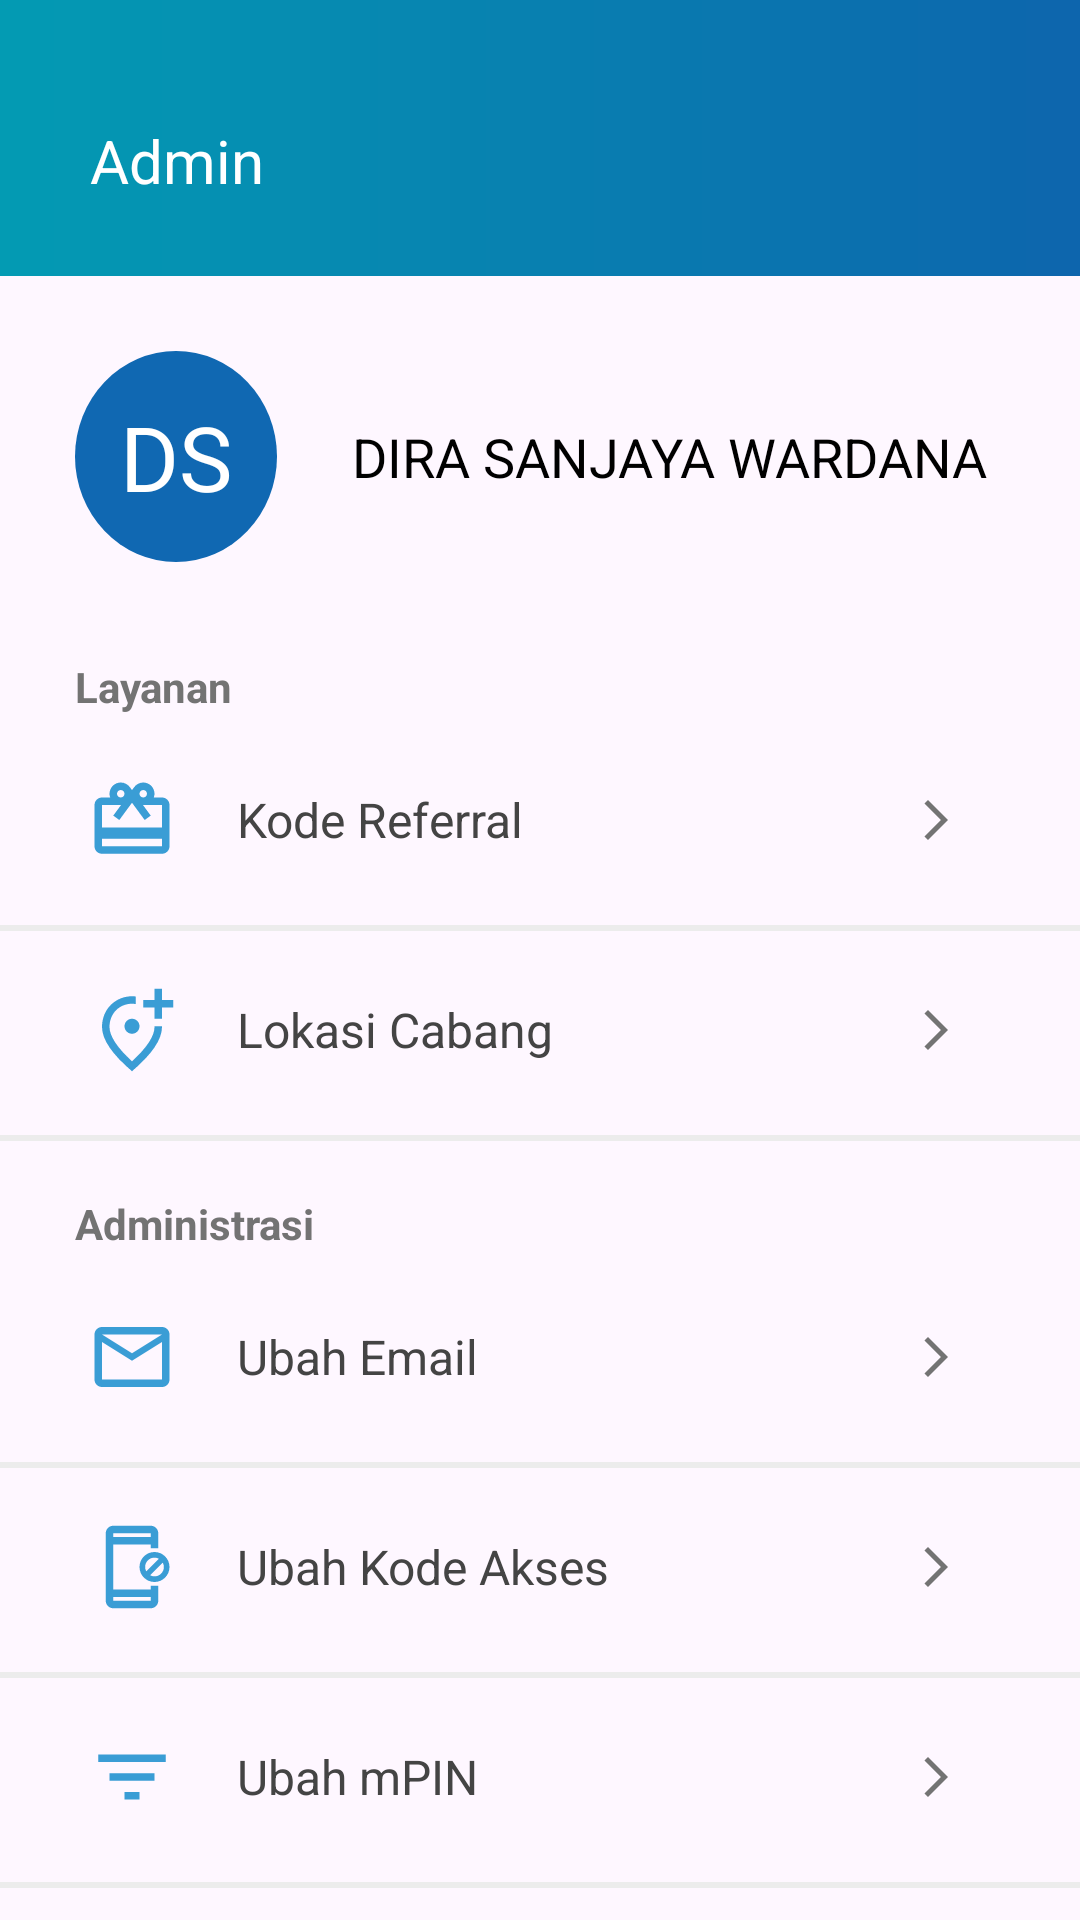

Named icons in this screenshot (1080×1920) and their bounding boxes, (x1, y1, x2, y2):
arrow forward: (924, 800, 948, 840), (924, 1010, 948, 1050), (924, 1337, 948, 1377), (924, 1547, 948, 1587), (924, 1757, 948, 1797)
location: (102, 988, 174, 1071)
referal: (94, 782, 170, 854)
